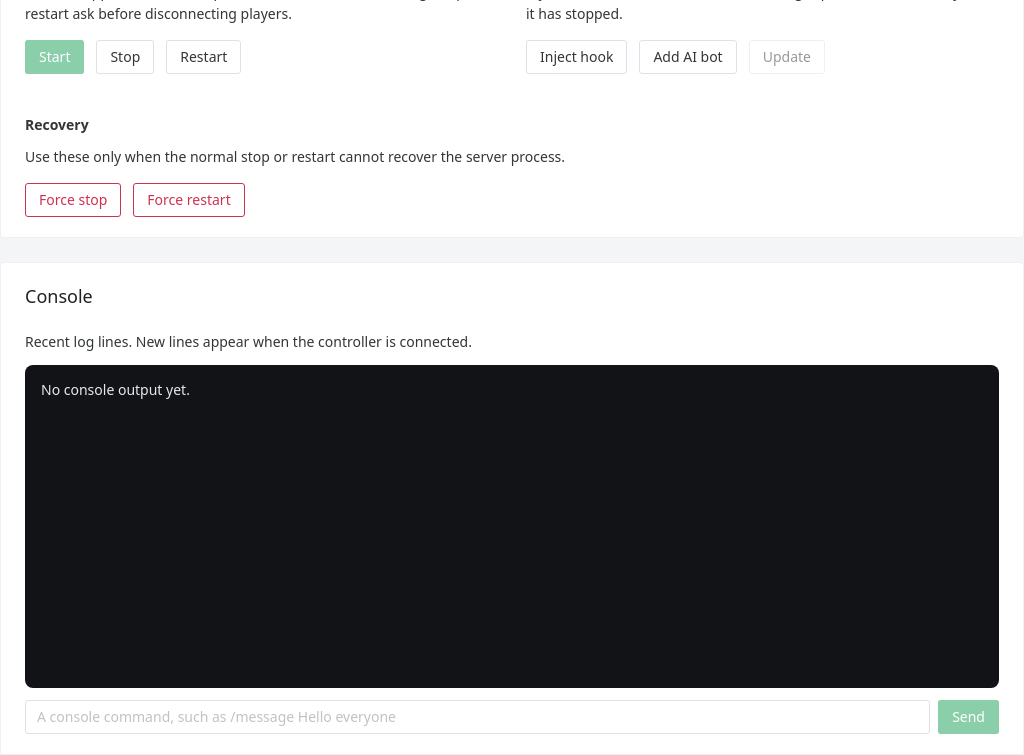
Test case: ServerControlView › asks before sending a command that disconnects players
(page scrolled)
Type "exit" into the field with placeholder "A console command, such as /message Hello everyone" at (478, 717), box [37,700,918,734]
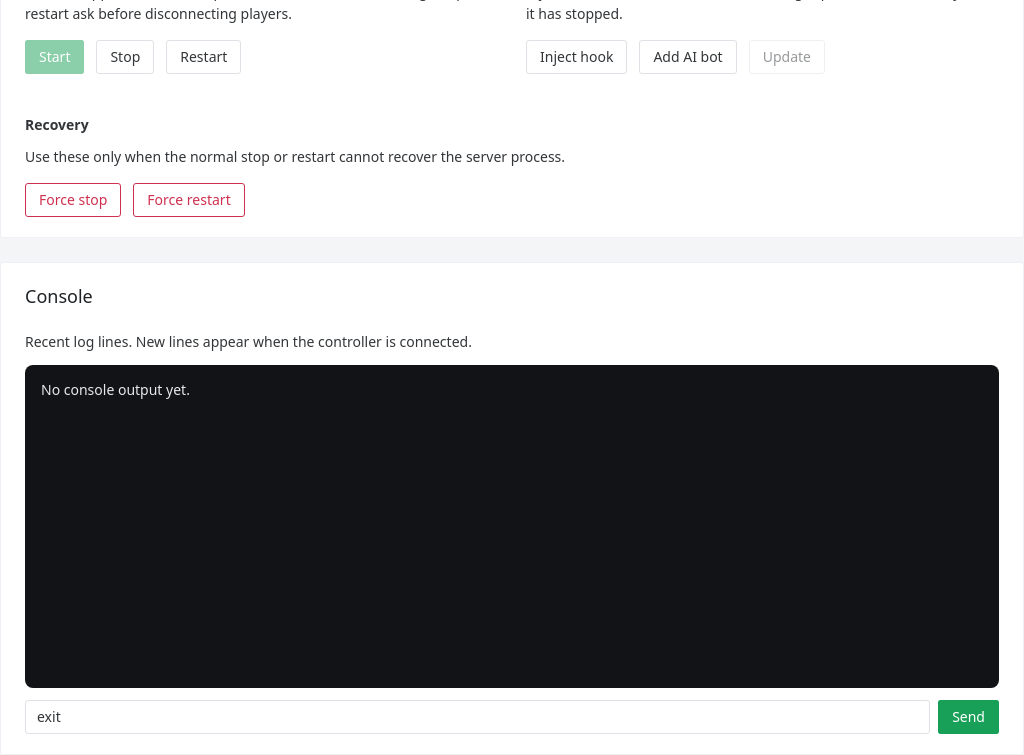
Click the button "Send" at (969, 717), box [938,700,999,734]
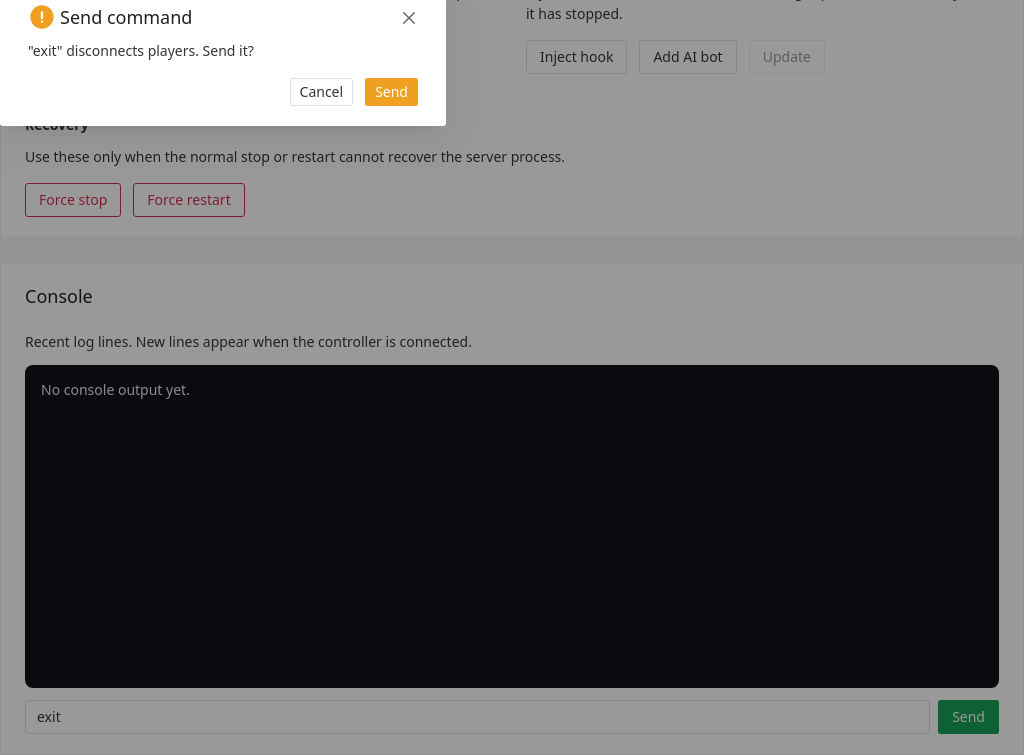
Result: the text "disconnects players" is shown at [28,41,254,60]
